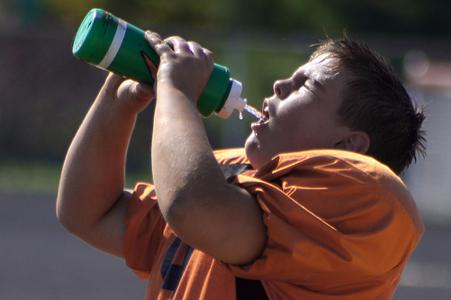person: (54, 28, 425, 300)
